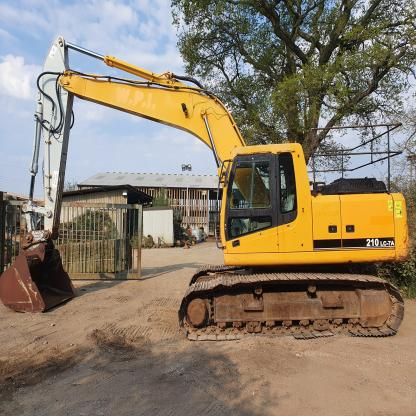excavator: (4, 29, 414, 359)
